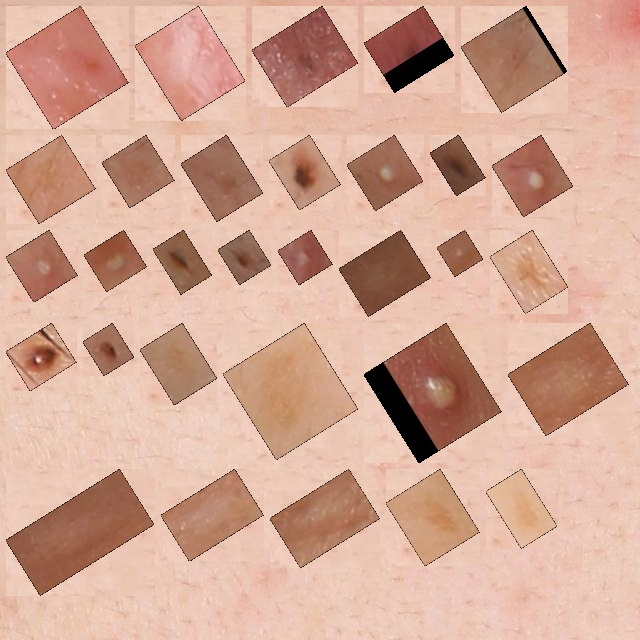hypertrophic_scar: (17, 480, 143, 584), (17, 17, 117, 118), (519, 334, 617, 424), (146, 17, 234, 109), (281, 480, 369, 556), (172, 480, 252, 550), (350, 241, 420, 305)
melasma: (234, 334, 347, 449), (472, 17, 556, 101), (397, 480, 468, 555), (17, 146, 84, 212), (192, 146, 252, 210), (501, 241, 557, 302), (151, 334, 206, 394), (497, 480, 546, 537), (113, 146, 163, 196)
nevus: (263, 17, 347, 96), (375, 17, 443, 81), (280, 146, 329, 199), (17, 334, 65, 380), (164, 241, 201, 283), (441, 146, 474, 184), (229, 241, 260, 273), (94, 334, 123, 364)
pustule: (375, 334, 490, 452), (503, 146, 562, 206), (358, 146, 412, 199), (17, 241, 66, 291), (95, 241, 136, 280), (289, 241, 321, 274), (448, 241, 472, 265)
